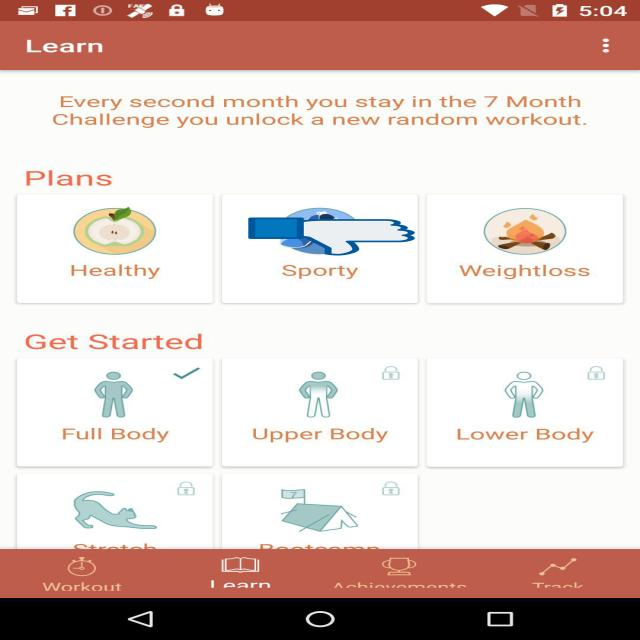obstruction: (248, 217, 415, 256)
